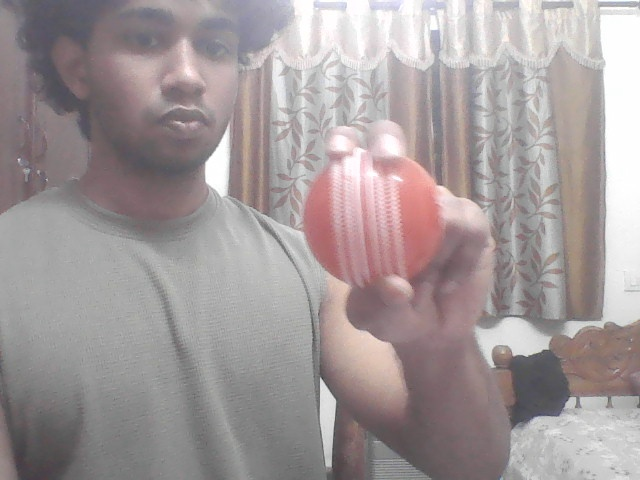cricket_ball: (299, 147, 444, 286)
